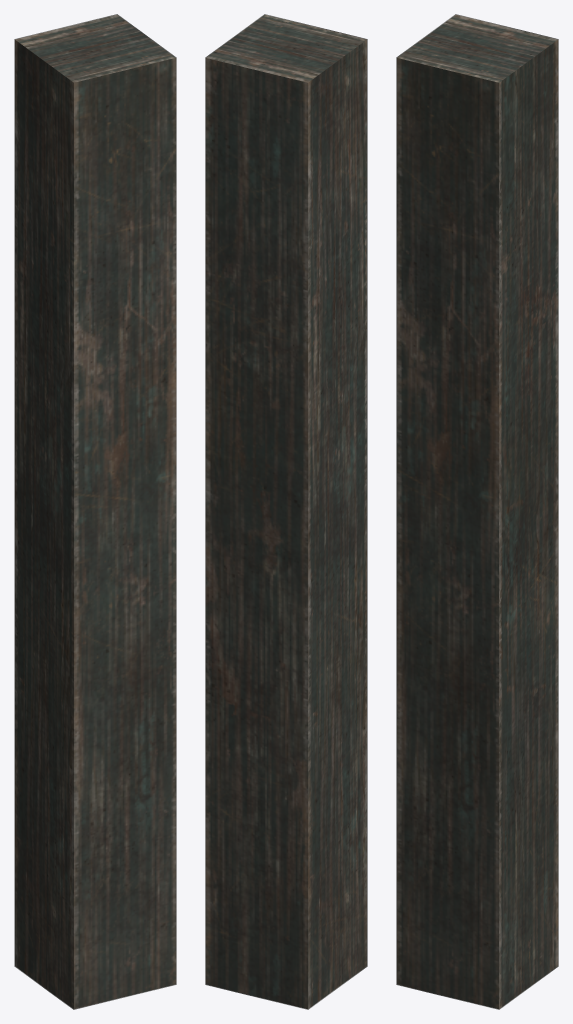
The model's file is SM_Pillar_01.gltf.
3 renders of one model, left to right at view 1: azimuth 30°, elevation 25°; view 2: azimuth 150°, elevation 25°; view 3: azimuth 330°, elevation 25°, orthographic.
Parts seen in each view (by area): view 1: SM_Pillar_01_LOD0, SM_Pillar_01_ConvexHulls; view 2: SM_Pillar_01_LOD0, SM_Pillar_01_ConvexHulls; view 3: SM_Pillar_01_LOD0, SM_Pillar_01_ConvexHulls.
Boxes of the visible parts, left/top/right/bottom form: SM_Pillar_01_LOD0: left=15, top=14, right=176, bottom=1009; SM_Pillar_01_ConvexHulls: left=14, top=14, right=176, bottom=1009; SM_Pillar_01_LOD0: left=205, top=14, right=366, bottom=1009; SM_Pillar_01_ConvexHulls: left=205, top=14, right=367, bottom=1009; SM_Pillar_01_LOD0: left=397, top=14, right=558, bottom=1009; SM_Pillar_01_ConvexHulls: left=396, top=14, right=558, bottom=1009.
Size of what is drawn, in the model's own units: 0.2641 by 2.27 by 0.264.
